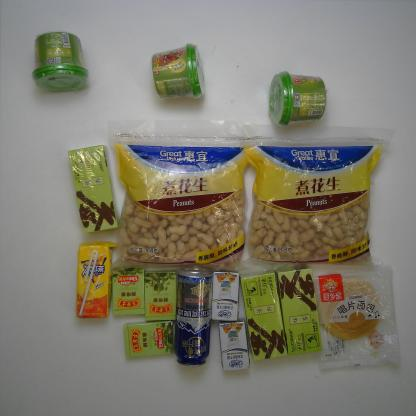Alcohol: (173, 265, 213, 367)
Candy: (124, 320, 174, 358), (144, 269, 178, 321), (112, 265, 146, 316)
Dessert: (310, 261, 402, 371)
Dried Food: (105, 117, 263, 279), (238, 122, 394, 277)
Drink: (75, 240, 119, 320)
Instant Drink: (238, 269, 289, 361), (67, 145, 120, 233), (276, 263, 324, 356), (31, 30, 90, 94), (267, 70, 327, 127), (150, 43, 206, 100)
Milk: (208, 268, 241, 322), (219, 317, 250, 371)
